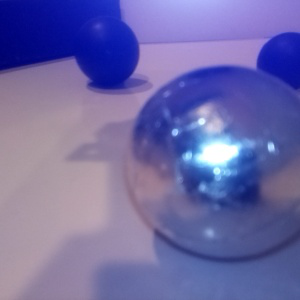alive_ball: (125, 66, 300, 261)
dead_ball: (74, 17, 141, 87), (257, 33, 300, 93)
